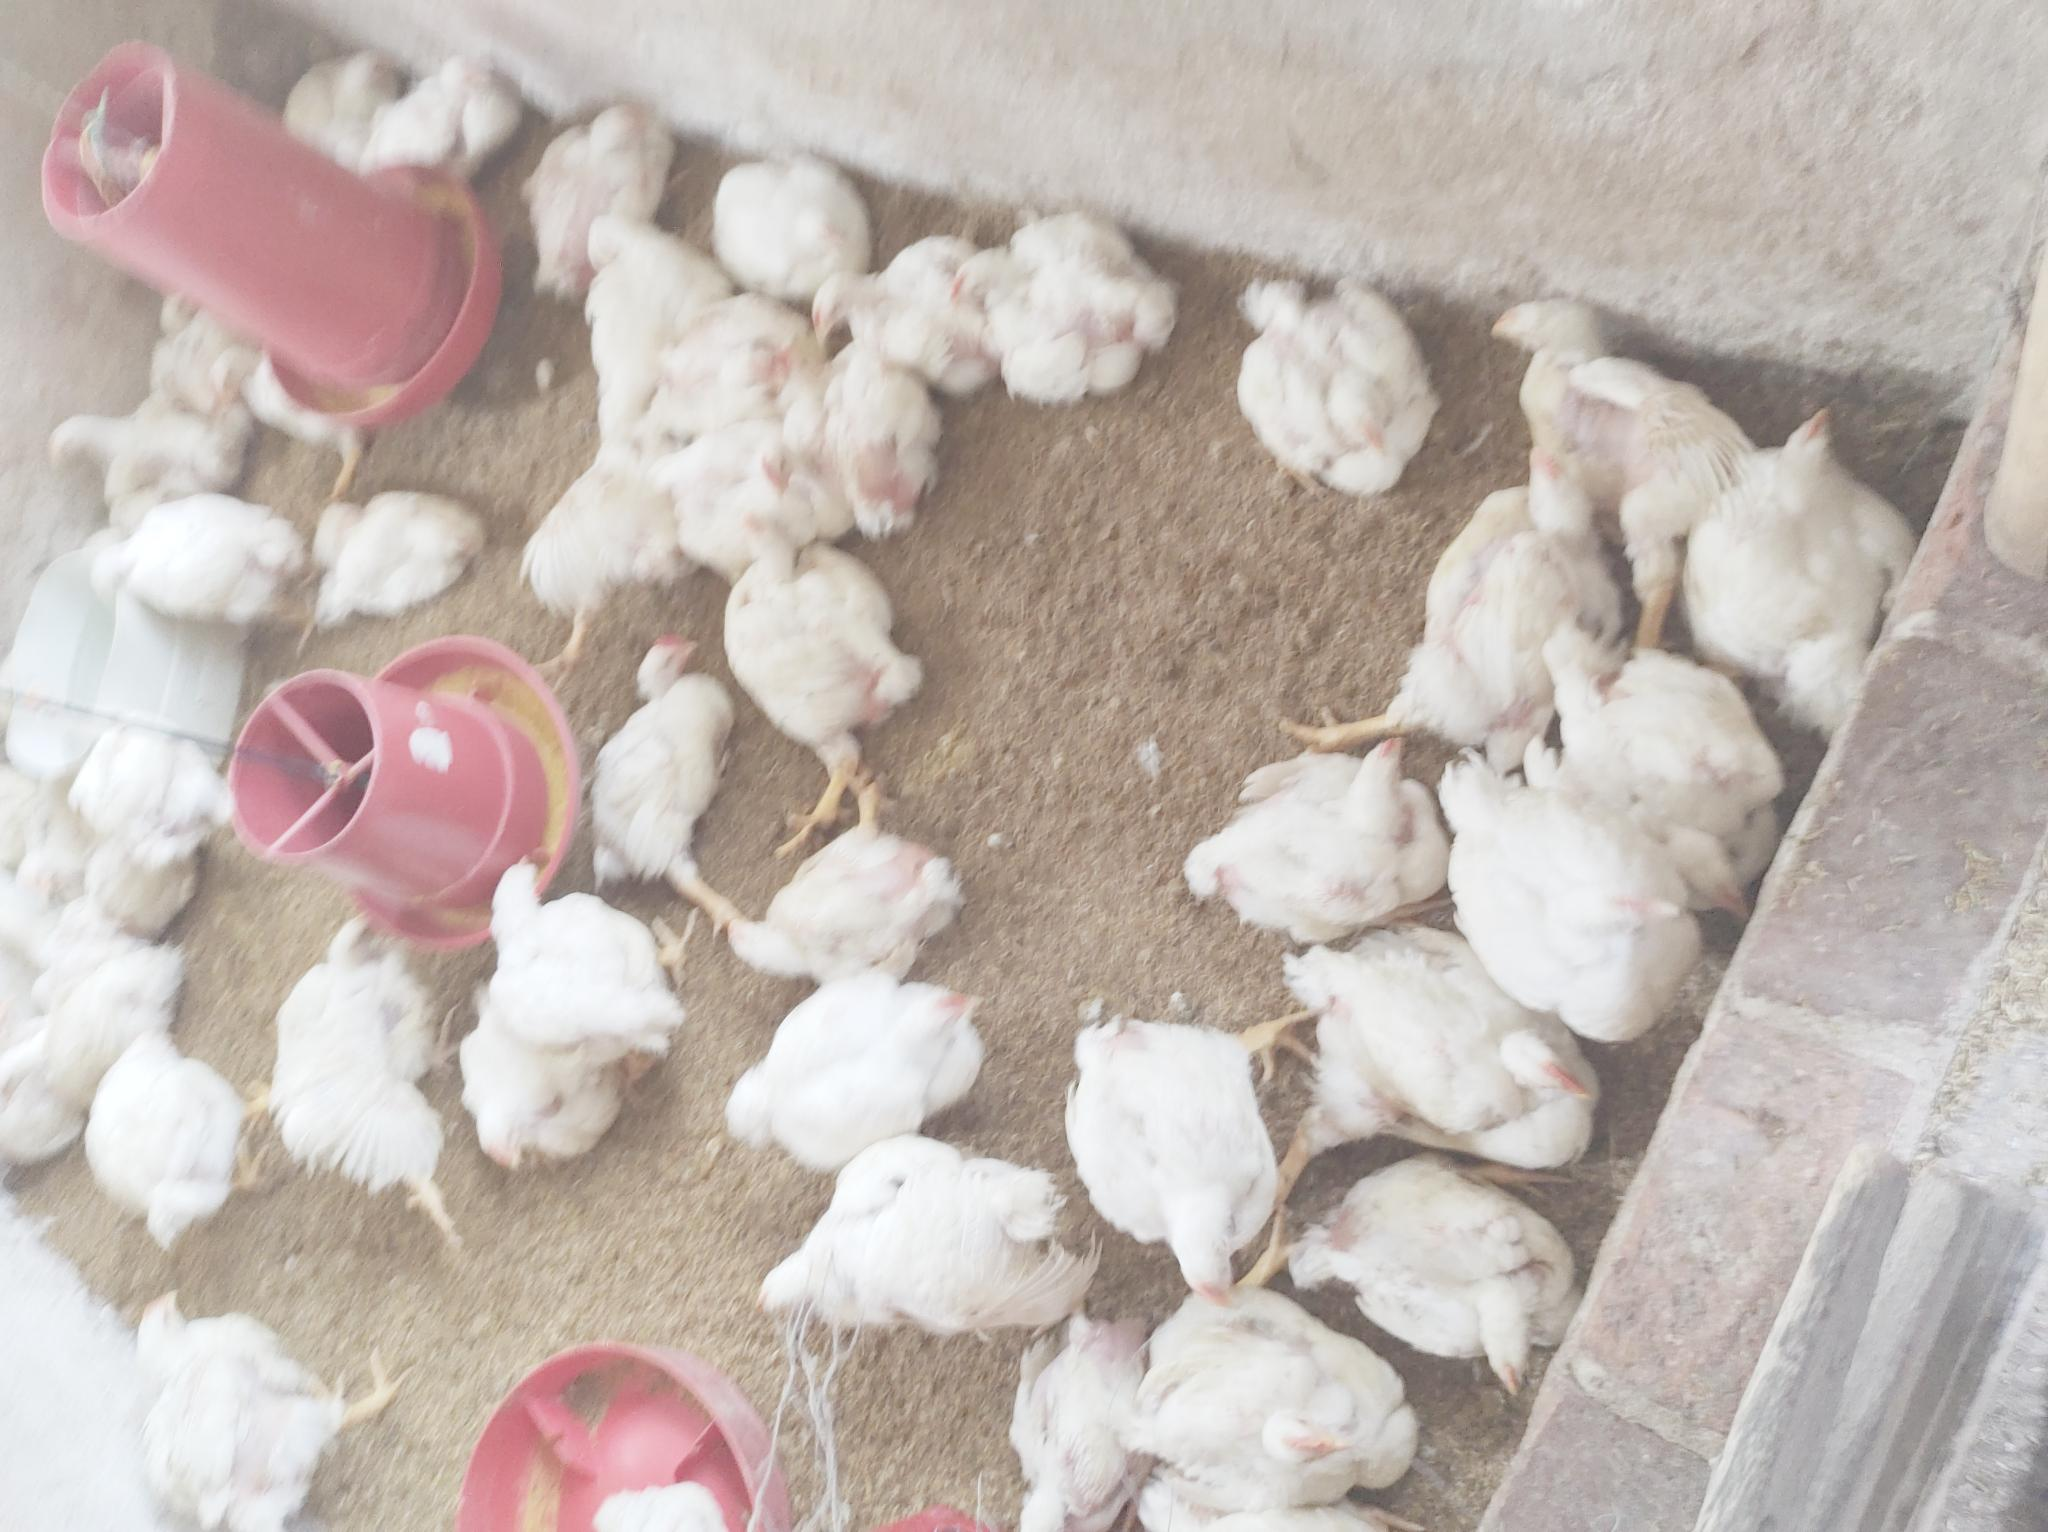Pollos: (1495, 620, 1787, 933), (1491, 283, 1794, 571), (1432, 755, 1712, 1059), (1284, 912, 1604, 1175), (1363, 425, 1630, 735), (743, 1131, 1108, 1337), (1059, 999, 1306, 1302), (1688, 396, 1921, 713), (1115, 1284, 1429, 1506), (1313, 1160, 1588, 1403), (113, 1273, 352, 1532), (714, 975, 1002, 1170), (1191, 731, 1458, 937), (711, 513, 920, 764), (262, 940, 455, 1207), (1226, 261, 1438, 497), (943, 209, 1184, 409), (512, 319, 674, 605), (713, 821, 965, 995), (492, 824, 676, 1052), (573, 631, 738, 875), (72, 1017, 253, 1233), (431, 978, 631, 1172), (771, 303, 946, 505), (800, 233, 1017, 393), (1001, 1308, 1145, 1532), (72, 488, 299, 624), (521, 93, 671, 291), (635, 282, 819, 438), (655, 423, 846, 557), (706, 153, 867, 304), (302, 494, 489, 621), (34, 396, 248, 505), (364, 53, 513, 171), (199, 349, 335, 447), (277, 40, 388, 150), (137, 283, 245, 396)
